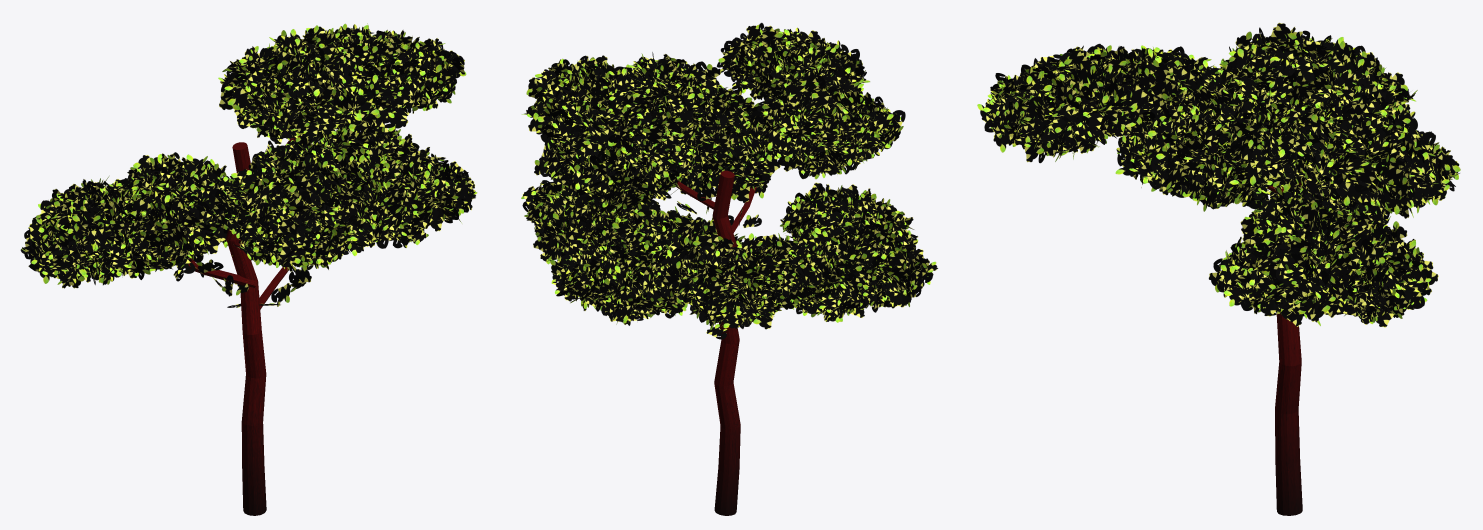
File: acacia_flat_v01.glb
3 renders of one model, left to right at view 1: azimuth 30°, elevation 25°; view 2: azimuth 150°, elevation 25°; view 3: azimuth 270°, elevation 25°, orthographic. The views are drawn at different scales.
Parts seen in each view (by area): view 1: acacia_flat_v01; view 2: acacia_flat_v01; view 3: acacia_flat_v01.
Part boxes in pixels (bbox=[...]): acacia_flat_v01: bbox=[20, 23, 477, 515]; acacia_flat_v01: bbox=[521, 22, 937, 515]; acacia_flat_v01: bbox=[977, 22, 1460, 515].
Bounding box in the file's own units: 9.55 × 9.68 × 8.43.
2 materials, 2 textured.
